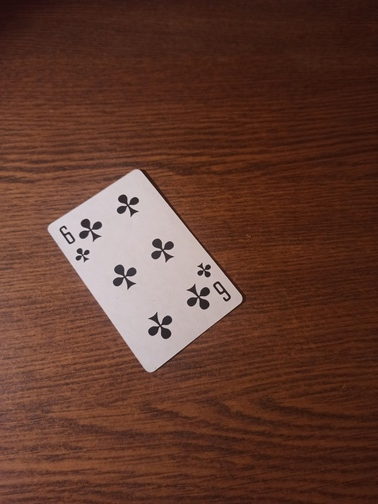sixclubs: (46, 168, 243, 374)
